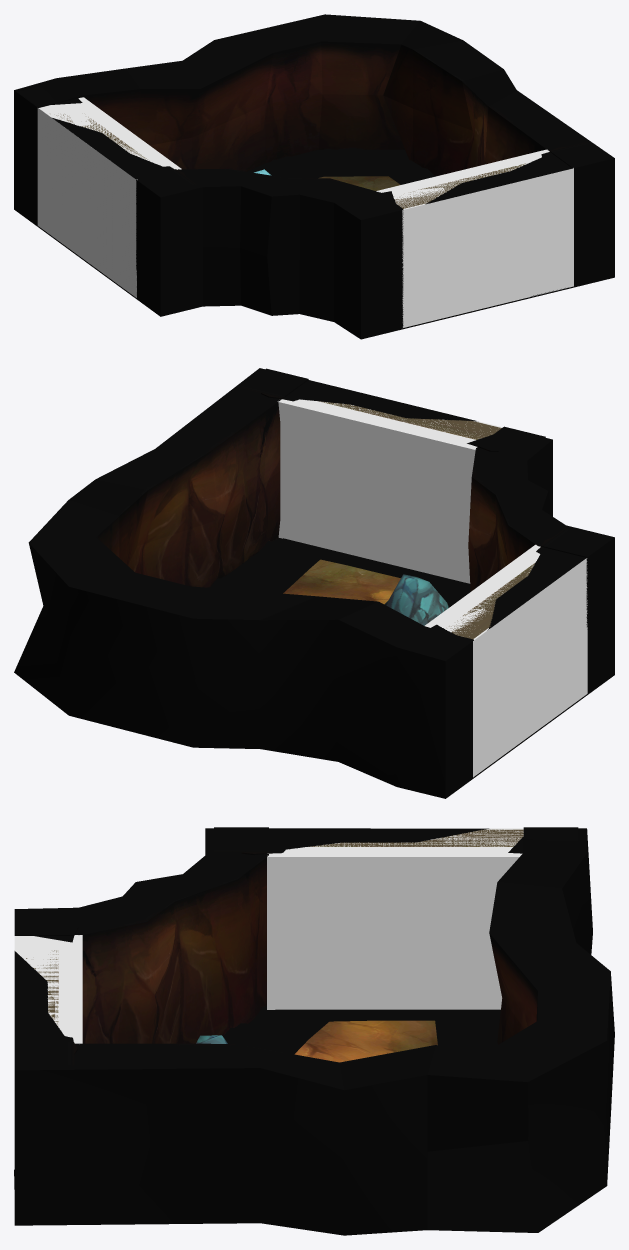
Rendered from Dungeon_011_RoadL_003.fbx.
3 views of the same model, one above another, from view 1: azimuth 30°, elevation 25°; view 2: azimuth 150°, elevation 25°; view 3: azimuth 270°, elevation 25° (orthographic). The views are drawn at different scales.
Visible parts, largest first — view 1: Dan1, DoorWay_NavMask (1) (×2), Dun_011_Door_002_old (×2), Dan1_shadow, Dun_011_Door_002 (×2), Dun_011_Door_003_WarpRoom, Dan2; view 2: Dan1, DoorWay_NavMask (1) (×2), Dun_011_Door_002_old (×2), Dan1_shadow, Dan2, Dun_011_Door_003_WarpRoom (×2), Dun_011_Door_002_shadow, Dungeon_011_Object_012, Dun_011_Door_002 (×2); view 3: Dan1, DoorWay_NavMask (1) (×2), Dun_011_Door_002_old (×2), Dan1_shadow, Dan2, Dun_011_Door_002_shadow, Dun_011_Door_003_WarpRoom, Dun_011_Door_002 (×2).
Boxes of the visible parts, x1,y1,x2,y2 form: Dan1: (14, 14, 614, 339); DoorWay_NavMask (1) (×2): (37, 97, 573, 327); Dun_011_Door_002_old (×2): (17, 86, 608, 217); Dan1_shadow: (247, 148, 553, 296); Dun_011_Door_002 (×2): (38, 93, 607, 328); Dun_011_Door_003_WarpRoom: (394, 163, 525, 208); Dan2: (318, 176, 400, 190); Dan1: (14, 368, 614, 798); DoorWay_NavMask (1) (×2): (277, 399, 587, 777); Dun_011_Door_002_old (×2): (240, 368, 610, 657); Dan1_shadow: (209, 537, 470, 607); Dan2: (283, 559, 400, 604); Dun_011_Door_003_WarpRoom (×2): (317, 401, 534, 639); Dun_011_Door_002_shadow: (283, 538, 469, 587); Dungeon_011_Object_012: (384, 574, 448, 625); Dun_011_Door_002 (×2): (240, 369, 608, 777); Dan1: (14, 828, 614, 1235); DoorWay_NavMask (1) (×2): (14, 828, 523, 1043); Dun_011_Door_002_old (×2): (14, 827, 578, 1065); Dan1_shadow: (14, 1005, 499, 1189); Dan2: (294, 1020, 437, 1062); Dun_011_Door_002_shadow: (275, 1009, 500, 1022); Dun_011_Door_003_WarpRoom: (309, 829, 523, 846); Dun_011_Door_002 (×2): (14, 827, 551, 1065).
Size of what is drawn, in the model's own units: 7.21 by 2.08 by 7.09.
